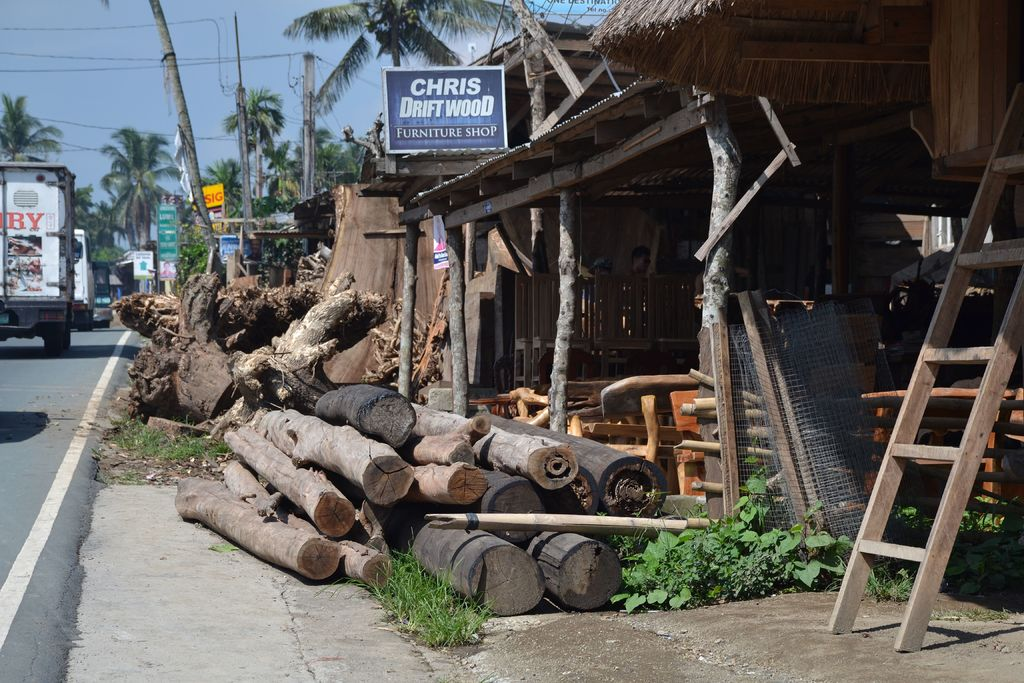Wheel: (47, 332, 69, 356), (77, 322, 87, 329)
